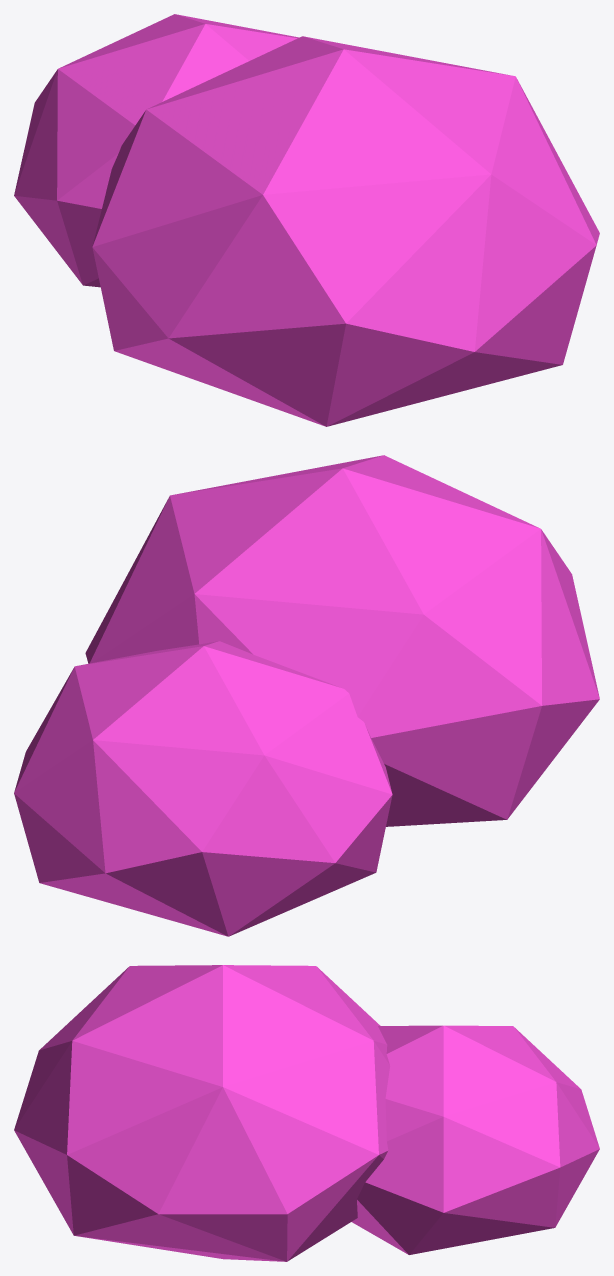
The model's file is Duo_Bush_004.fbx.
The picture shows the model from 3 angles, top to bottom: view 1: azimuth 30°, elevation 25°; view 2: azimuth 150°, elevation 25°; view 3: azimuth 270°, elevation 25°; orthographic projection. The views are drawn at different scales.
Parts seen in each view (by area): view 1: Duo Bush.004; view 2: Duo Bush.004; view 3: Duo Bush.004.
Boxes of the visible parts, <box> form: Duo Bush.004: <box>14,14,599,426</box>; Duo Bush.004: <box>14,455,599,936</box>; Duo Bush.004: <box>14,965,599,1261</box>.
Size of the model in its own units: 139 by 93.68 by 201.
